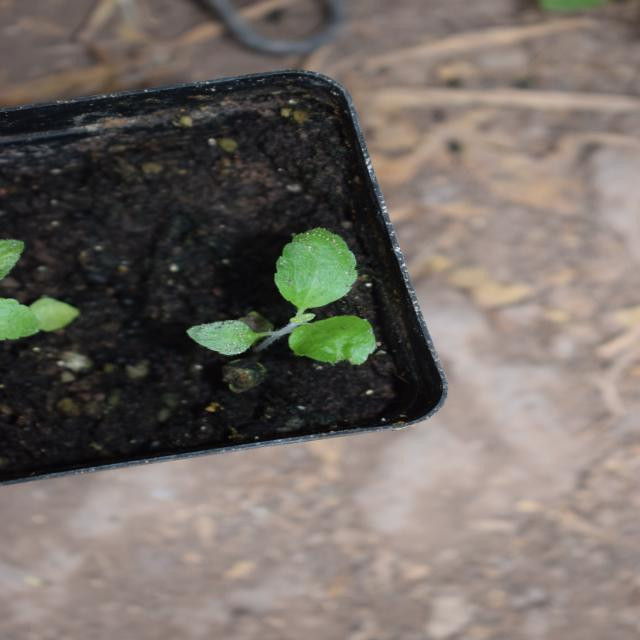billygoat_weed: (230, 257, 362, 448)
